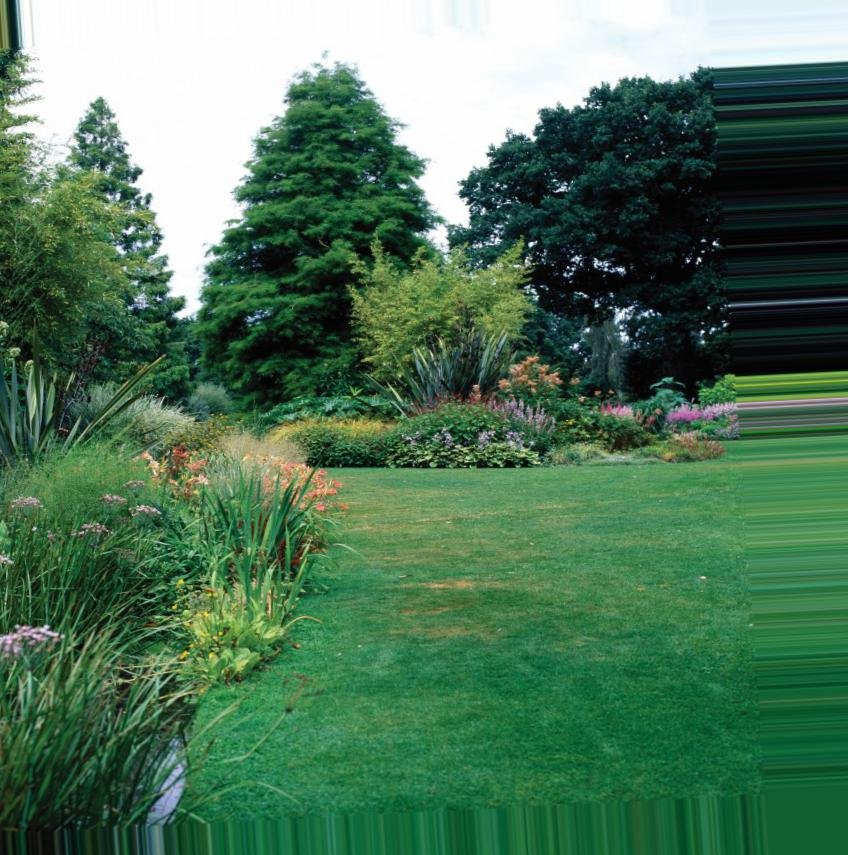patch: (425, 570, 478, 595), (421, 625, 461, 638)
